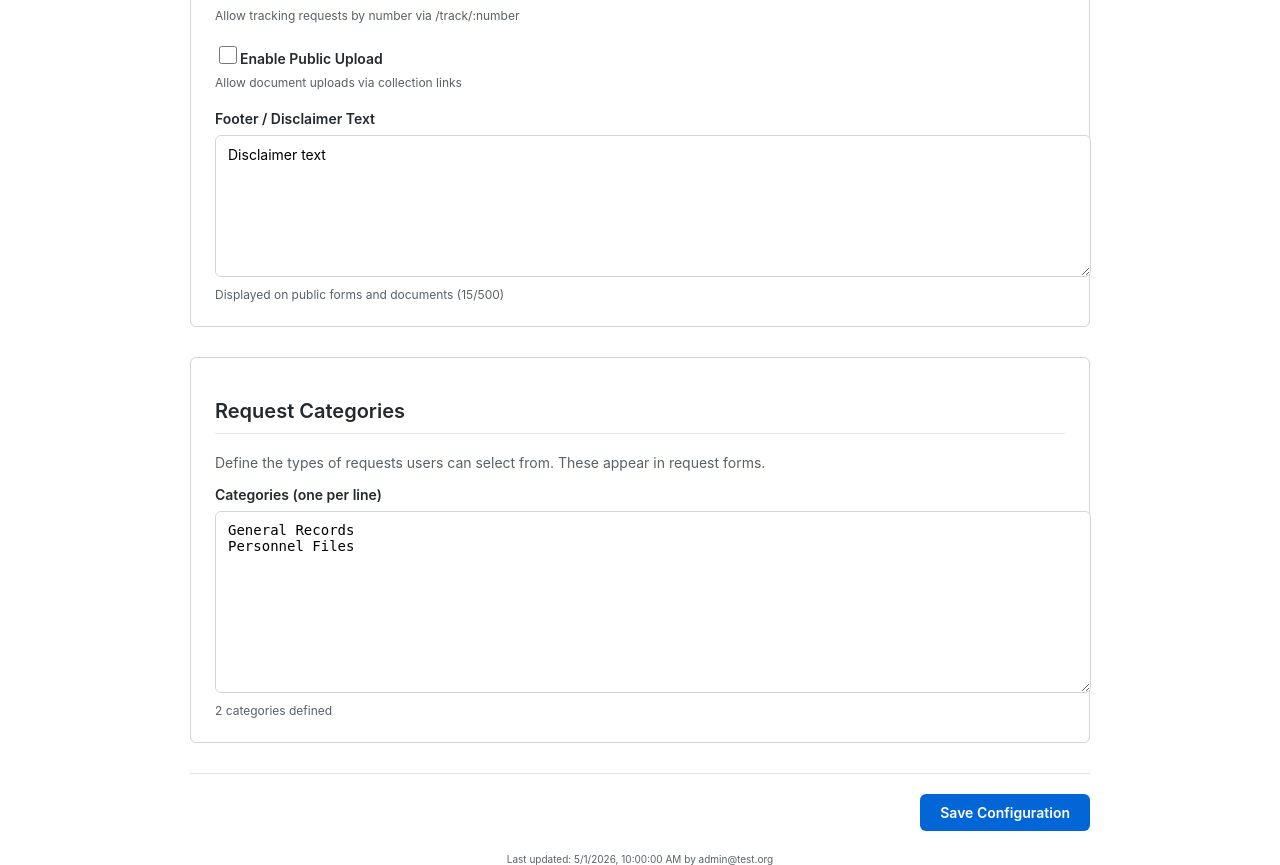
it: SystemConfiguration › shows a server error when the save fails
(page scrolled)
Click the button "Save Configuration" at [1005, 812], box [920, 794, 1090, 831]
(page scrolled)
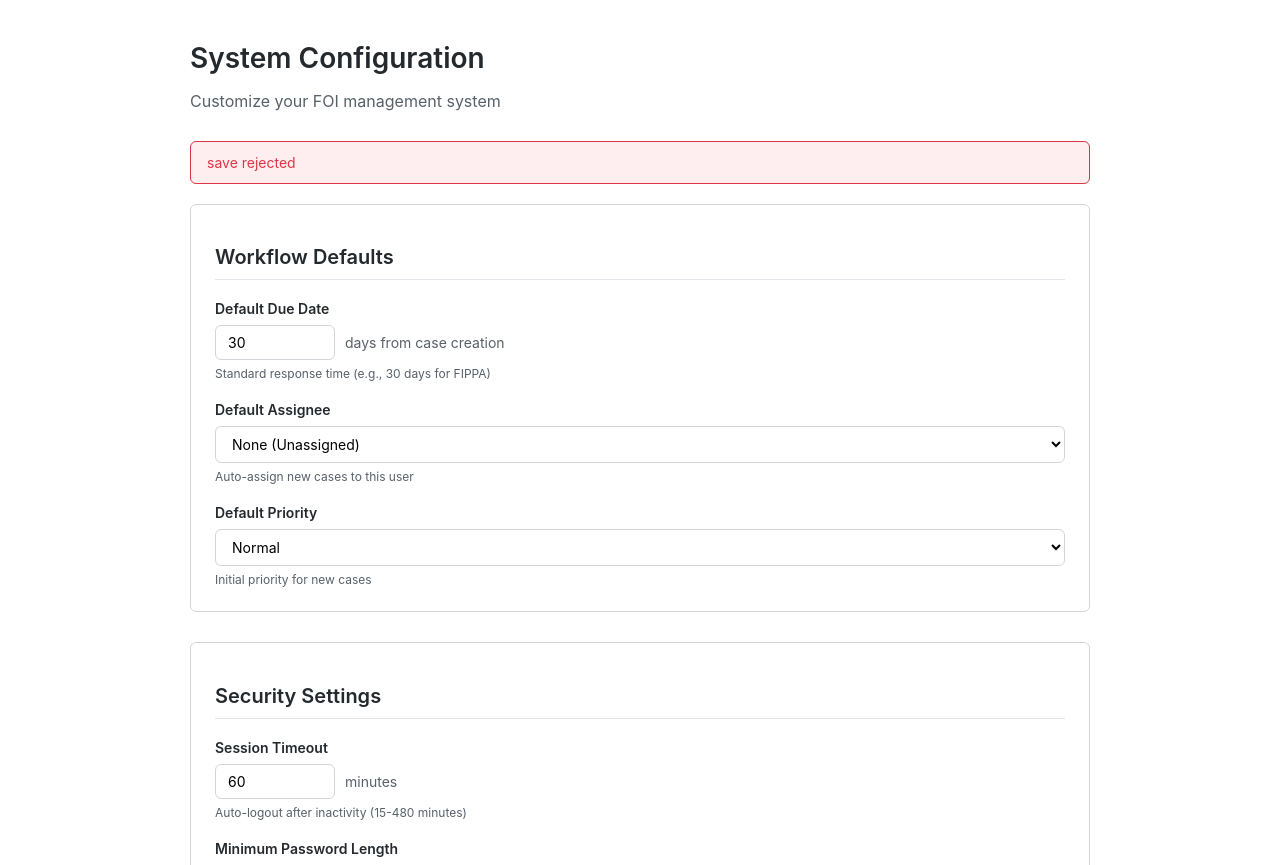
expect the text "save rejected" is shown: met, box [190, 141, 1090, 184]
